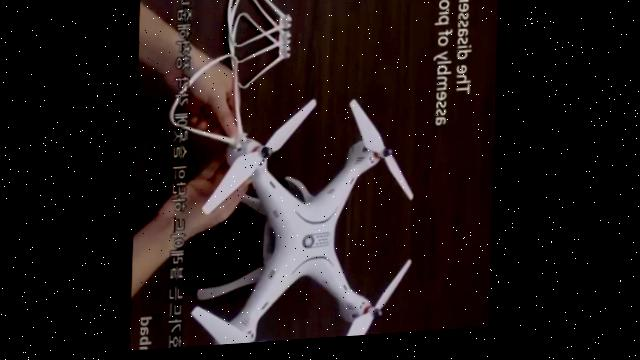drone: (192, 93, 420, 350)
